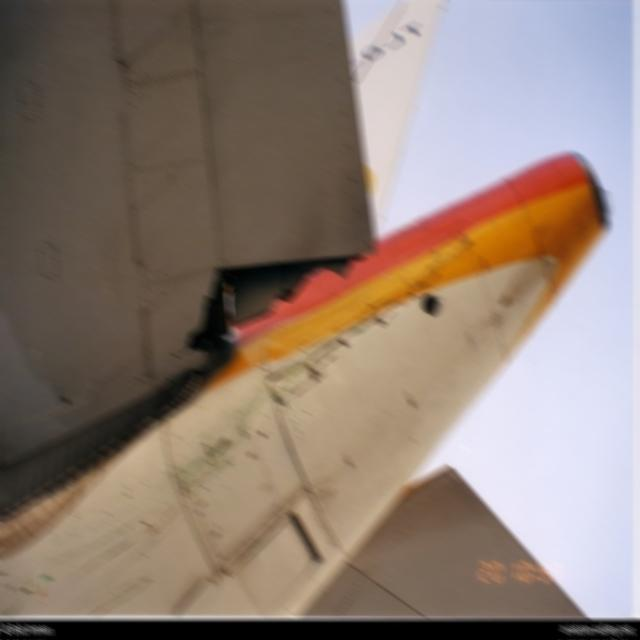crack: (174, 255, 365, 368)
